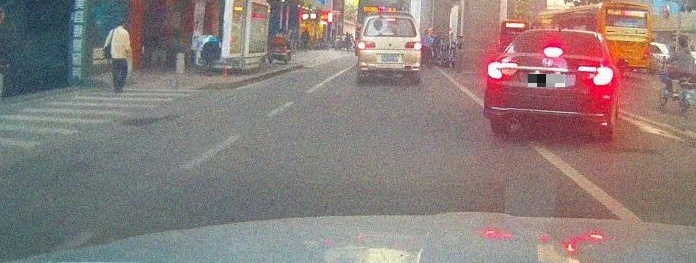L_light: (487, 61, 518, 80), (357, 40, 376, 50)
R_light: (577, 66, 613, 86), (404, 41, 421, 50)
T_light: (544, 47, 563, 58), (384, 18, 396, 22)
day-brake: (357, 11, 422, 85)
day-right: (484, 29, 614, 142)
plate_1: (528, 74, 565, 87)
